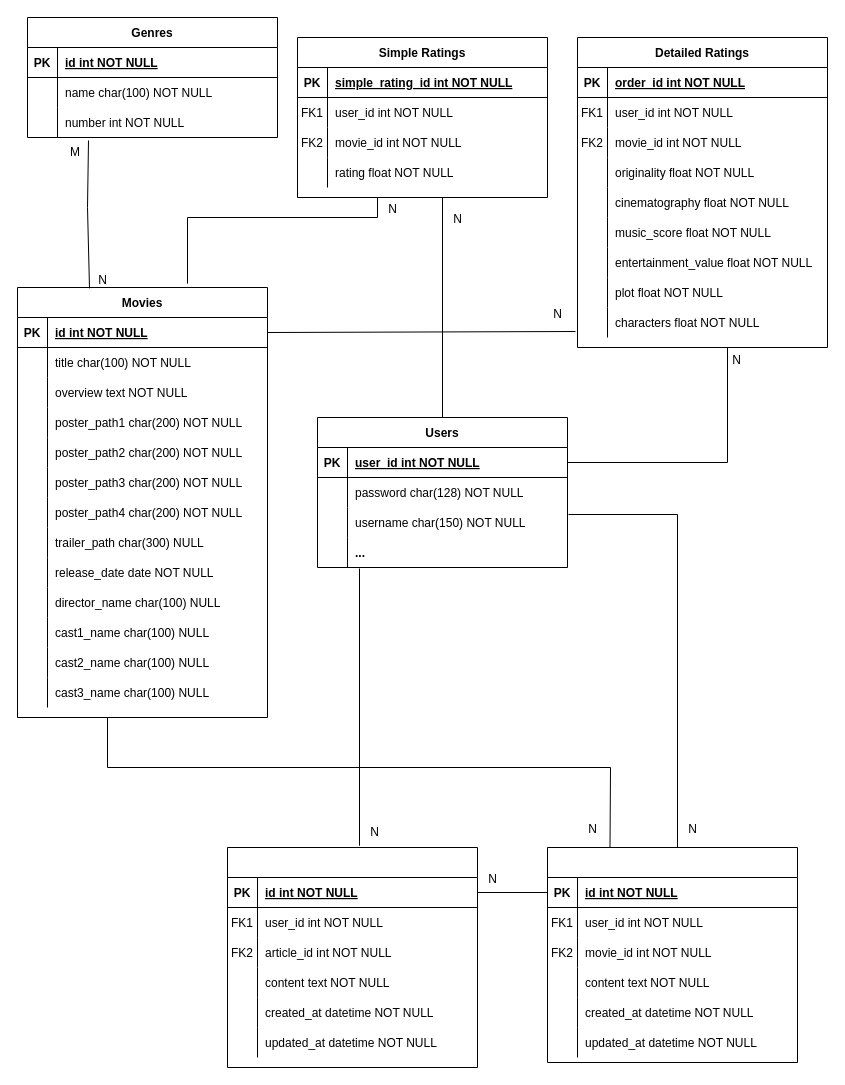
The diagram is 845 pixels wide and 1085 high, and some of its shapes have lost their labels. The box of each missing label's shape, as (x1, y1, x2, y2) in pixels:
Articles: (546, 846, 798, 1062)
Comments: (226, 846, 478, 1068)
